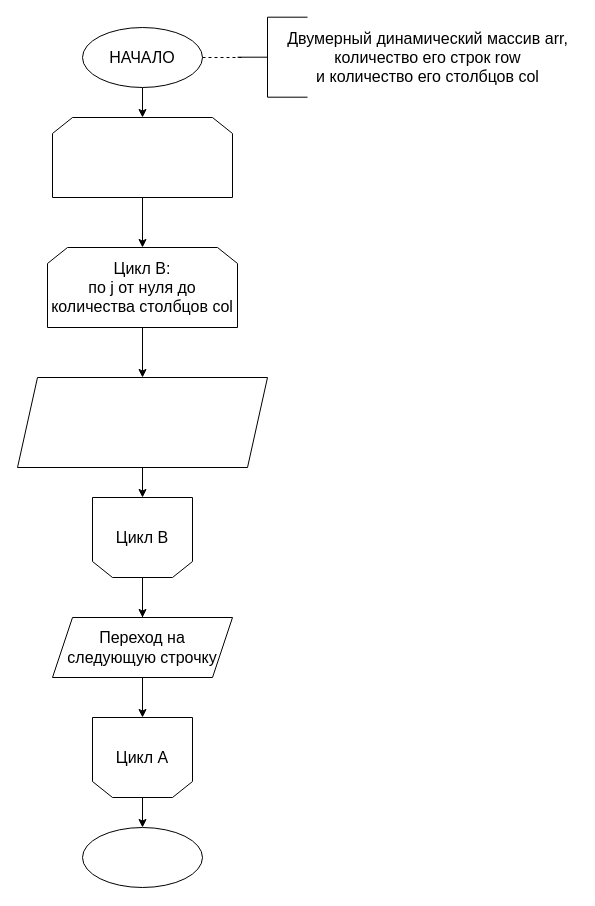
Some shapes in this 595 by 906 pixel diagram are drawn without their labels. The centre of each missing label's shape, as x and y in pixels:
КОНЕЦ: point (142, 857)
Печать элемента массива arr под индексами i и j: point (142, 422)
Цикл А: по i от нуля до количества строк row: point (142, 157)
